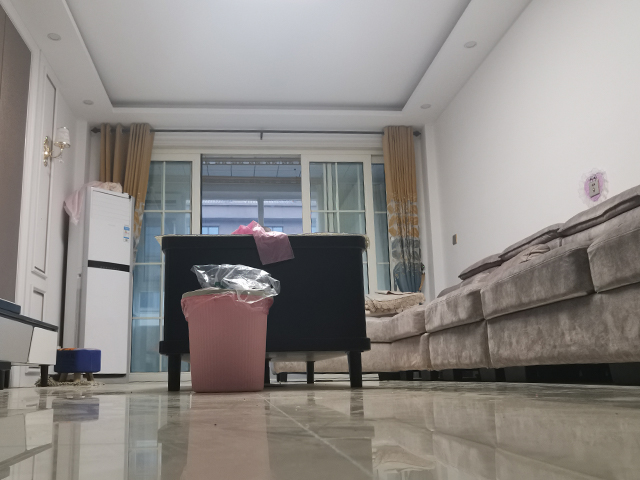cabinet: (1, 297, 64, 391)
curtain: (380, 127, 425, 290)
sofa: (378, 201, 638, 381)
stool: (55, 345, 105, 387)
table: (153, 231, 373, 395)
trashcan: (177, 285, 276, 395)
